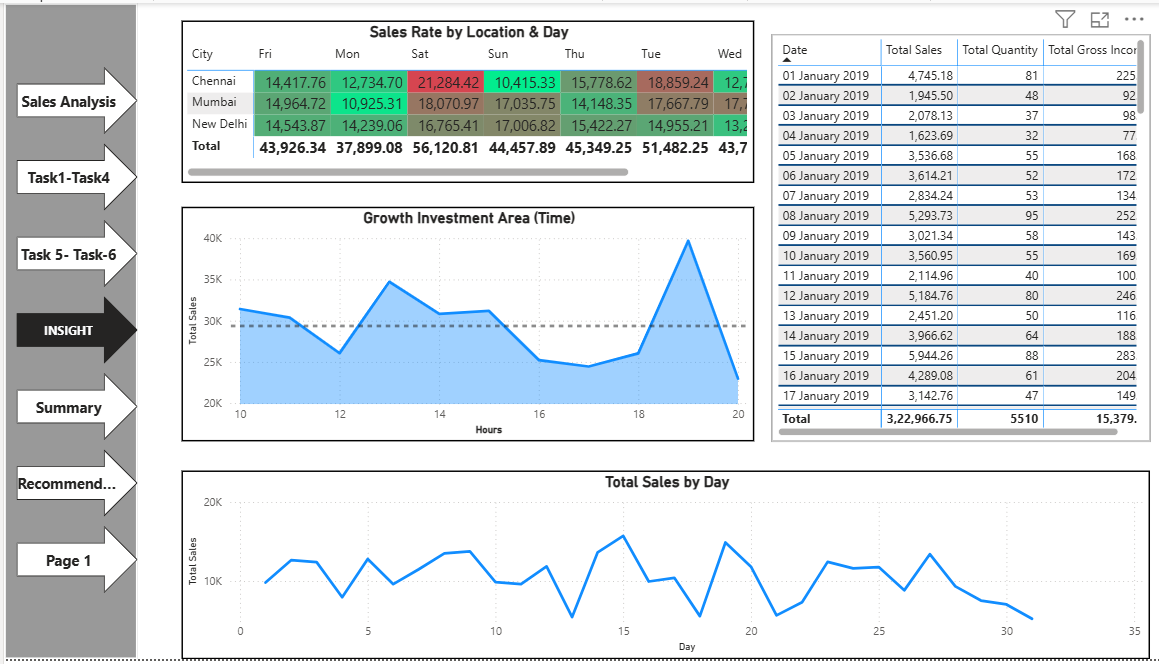

The dashboard page shown, as its layout file describes it:
{"tool":"powerbi","page":{"name":"INSIGHT","canvas":[1280,720],"ordinal":3},"visuals":[{"type":"lineChart","fields":{"Category":["DateTable.Date.Variation.Date Hierarchy.Day"],"Y":["dataset.Total Sales"]},"box":[194.9,513.2,1063.5,207.2],"z":0},{"type":"areaChart","title":"Growth Investment Area (Time)","fields":{"Category":["Time table.Hour Number"],"Y":["dataset.Total Sales"]},"box":[194.9,223.7,628.5,258],"z":1000},{"type":"pivotTable","title":"Sales Rate by Location & Day","fields":{"Rows":["dataset.City"],"Columns":["DateTable.WeekDayName"],"Values":["dataset.Total Sales"]},"box":[194.9,19.2,628.5,178.4],"z":2000},{"type":"tableEx","fields":{"Values":["dataset.Date","dataset.Total Sales","dataset.Total Quantity","dataset.Total Gross Income"]},"box":[842.5,34.3,415.8,447.3],"z":3000},{"type":"pageNavigator","box":[0,52.1,133.1,580.4],"z":4000},{"type":"shape","box":[0,0,146.8,720.4],"z":5000},{"type":"pageNavigator","box":[13.7,70,133.1,580.4],"z":6000}]}

Visuals, with their boxes in screenshot pixels (x1, y1, x2, y2), scaled from the page's 1280x720 canvas onto the 1159x664 screenshot:
lineChart - DateTable.Date.Variation.Date Hierarchy.Day x dataset.Total Sales: pyautogui.locateOnScreen(176, 473, 1139, 663)
"Growth Investment Area (Time)" areaChart: pyautogui.locateOnScreen(176, 206, 746, 444)
"Sales Rate by Location & Day" pivotTable: pyautogui.locateOnScreen(176, 18, 746, 182)
tableEx - dataset.Date x dataset.Total Sales: pyautogui.locateOnScreen(763, 32, 1139, 444)
pageNavigator: pyautogui.locateOnScreen(0, 48, 121, 583)
shape: pyautogui.locateOnScreen(0, 0, 133, 663)
pageNavigator: pyautogui.locateOnScreen(12, 65, 133, 600)
